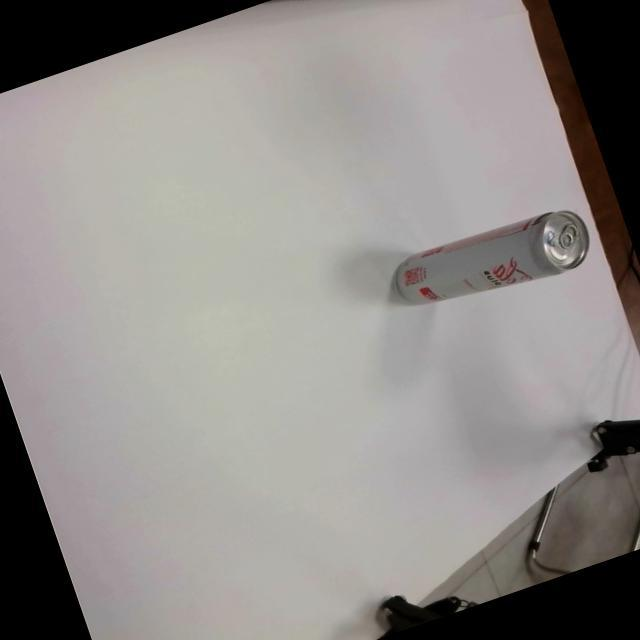debris: (376, 196, 599, 329)
